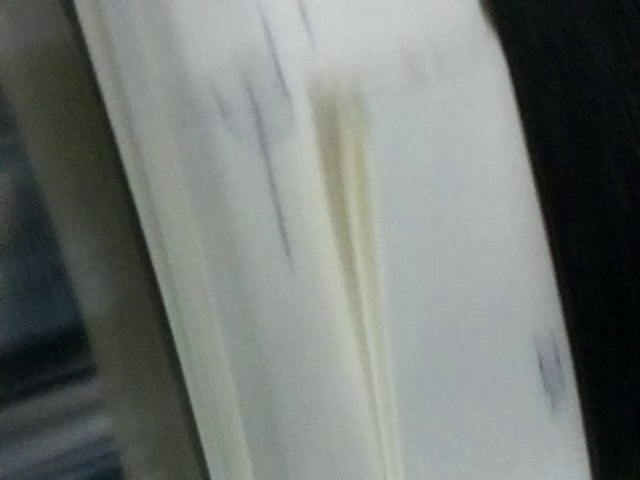not_sure: (203, 47, 299, 143)
